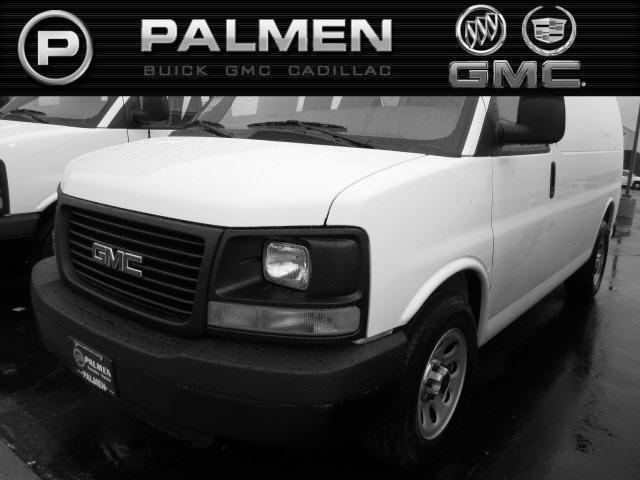car: (29, 93, 630, 480)
